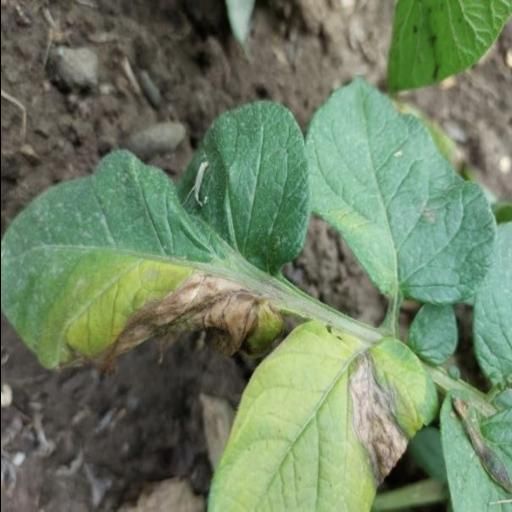Early Blight: (0, 100, 310, 372), (203, 324, 436, 512)
